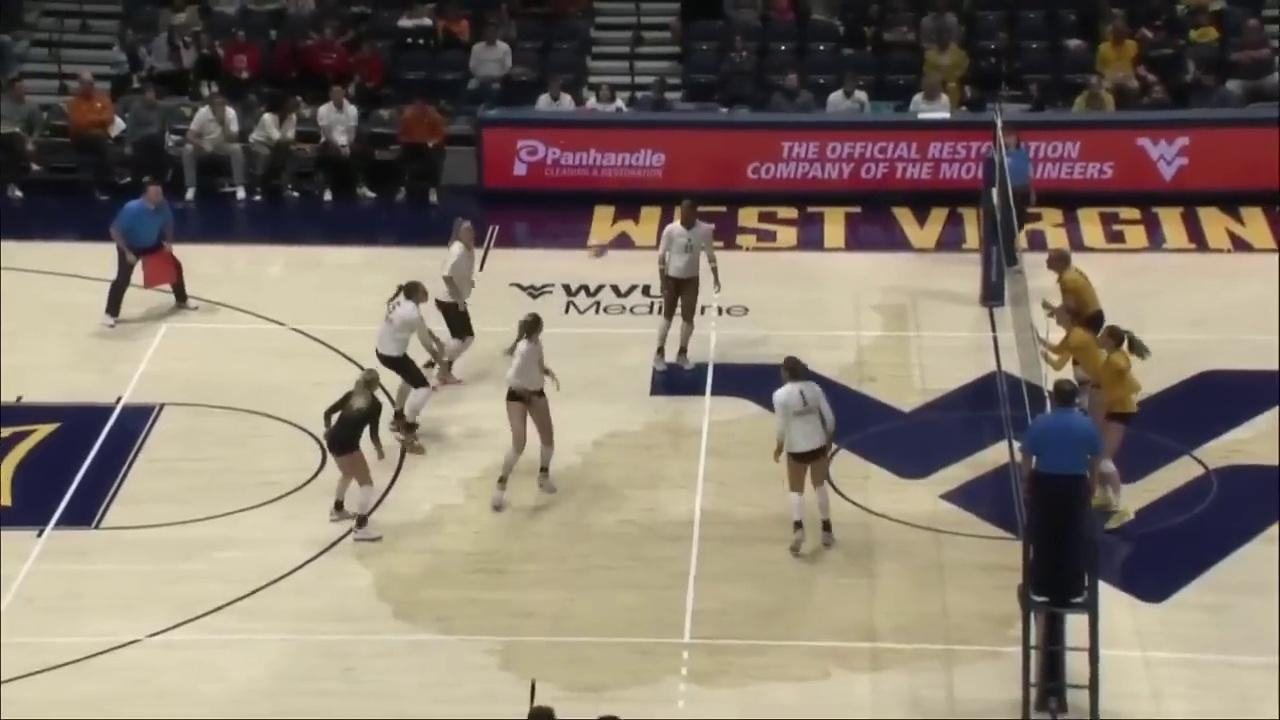player: (491, 307, 564, 514), (772, 355, 842, 553), (315, 362, 388, 544), (1049, 303, 1120, 487), (375, 284, 449, 450), (655, 189, 722, 372), (1040, 245, 1107, 412), (1093, 322, 1147, 529), (433, 215, 477, 385)
refree: (97, 180, 202, 327), (1029, 377, 1096, 605), (987, 126, 1031, 273)
